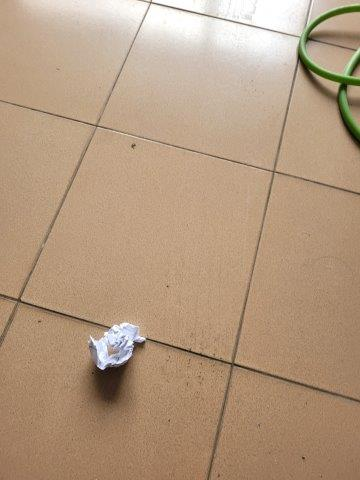kertas: (86, 324, 147, 371)
